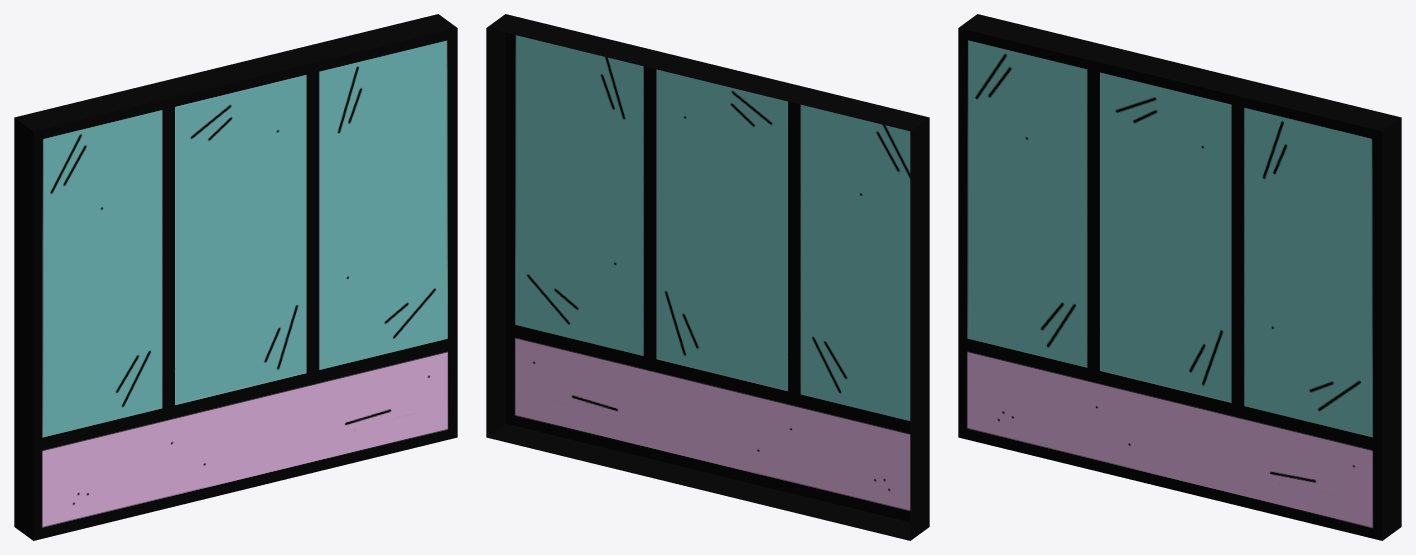
Rendered from Top_Right_Shopfront.fbx.
The picture shows the model from 3 angles, left to right: view 1: azimuth 30°, elevation 25°; view 2: azimuth 150°, elevation 25°; view 3: azimuth 330°, elevation 25°; orthographic projection.
Visible parts, largest first — view 1: Box168; view 2: Box168; view 3: Box168.
Part boxes in pixels (bbox=[...]): Box168: bbox=[14, 14, 457, 540]; Box168: bbox=[486, 14, 929, 540]; Box168: bbox=[958, 14, 1401, 540].
Bounding box in the file's own units: 2.26 × 2.08 × 0.1757.
